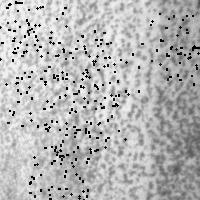pitted_surface: (1, 1, 196, 200), (61, 48, 120, 106), (83, 39, 141, 97), (45, 103, 105, 158), (47, 30, 106, 85), (6, 1, 65, 55), (5, 70, 59, 128), (29, 147, 87, 200), (65, 86, 124, 138), (150, 13, 200, 68), (166, 24, 200, 84), (0, 19, 35, 77)
